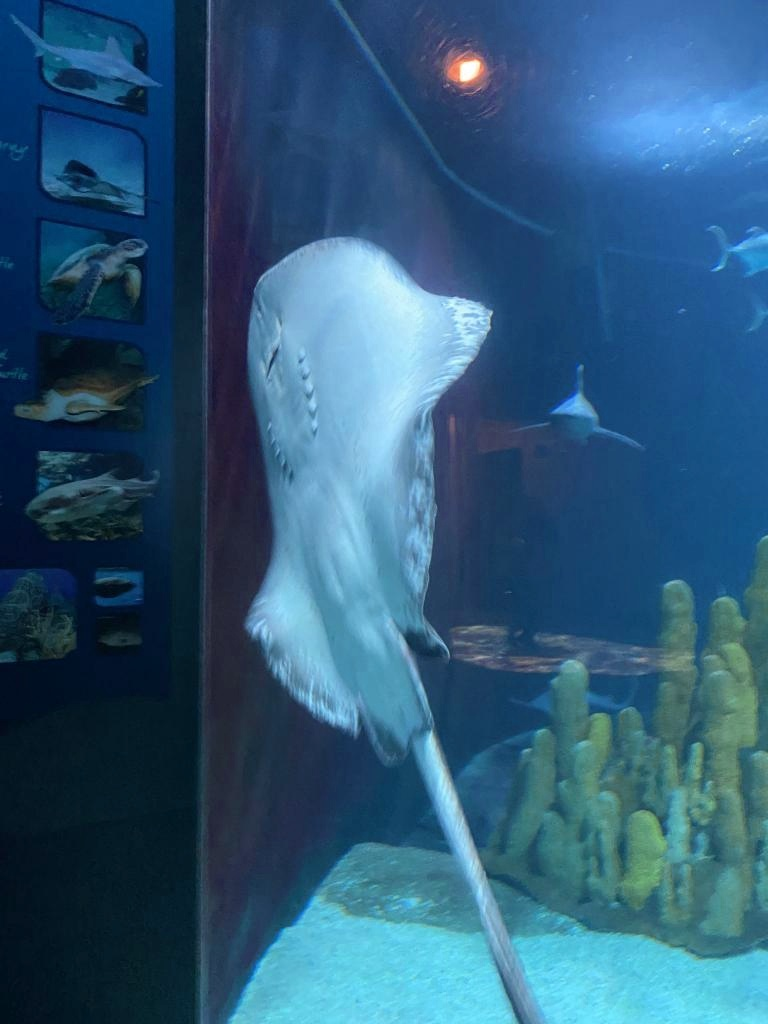fish: (704, 224, 766, 280), (742, 289, 768, 335)
shark: (509, 363, 647, 461)
stingray: (246, 229, 490, 767)
